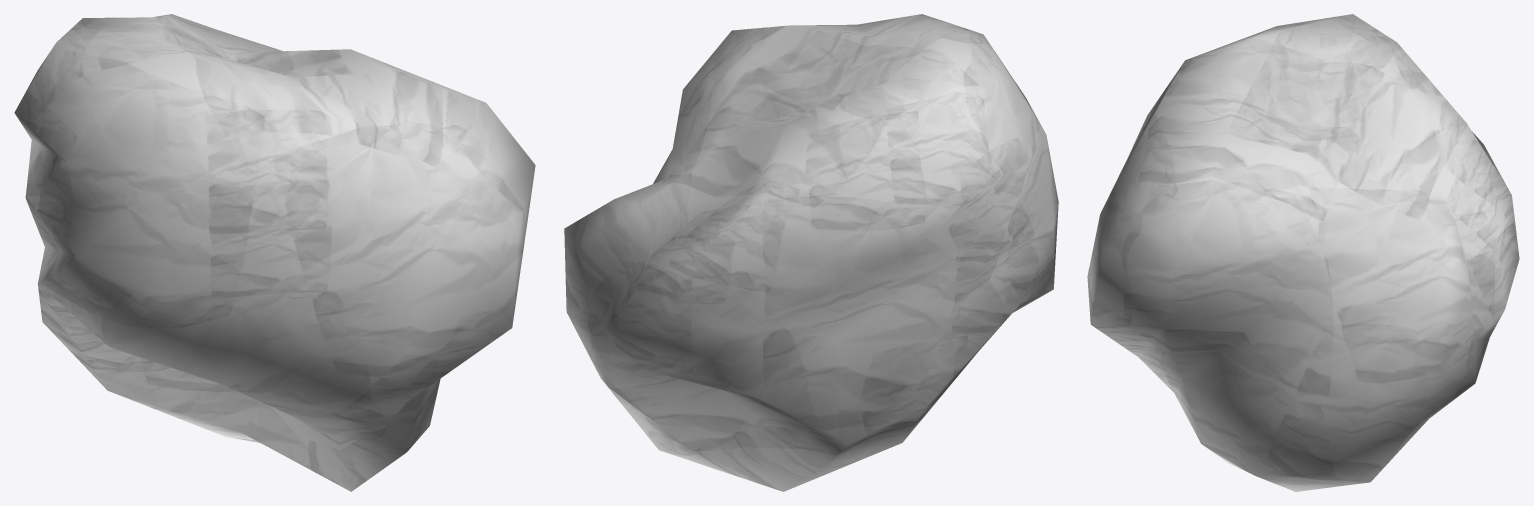
Rendered from Spitball_mesh.fbx.
The picture shows the model from 3 angles, left to right: view 1: azimuth 30°, elevation 25°; view 2: azimuth 150°, elevation 25°; view 3: azimuth 270°, elevation 25°; orthographic projection. The views are drawn at different scales.
Parts seen in each view (by area): view 1: Spitball_mesh; view 2: Spitball_mesh; view 3: Spitball_mesh.
Part boxes in pixels (box(x1,y1,x2,y2)): Spitball_mesh: box(14, 14, 535, 491); Spitball_mesh: box(564, 14, 1058, 491); Spitball_mesh: box(1087, 14, 1519, 491).
Size of the model in its own units: 9.39 by 9.98 by 10.3.
Materials: 1 (1 with a texture image).
